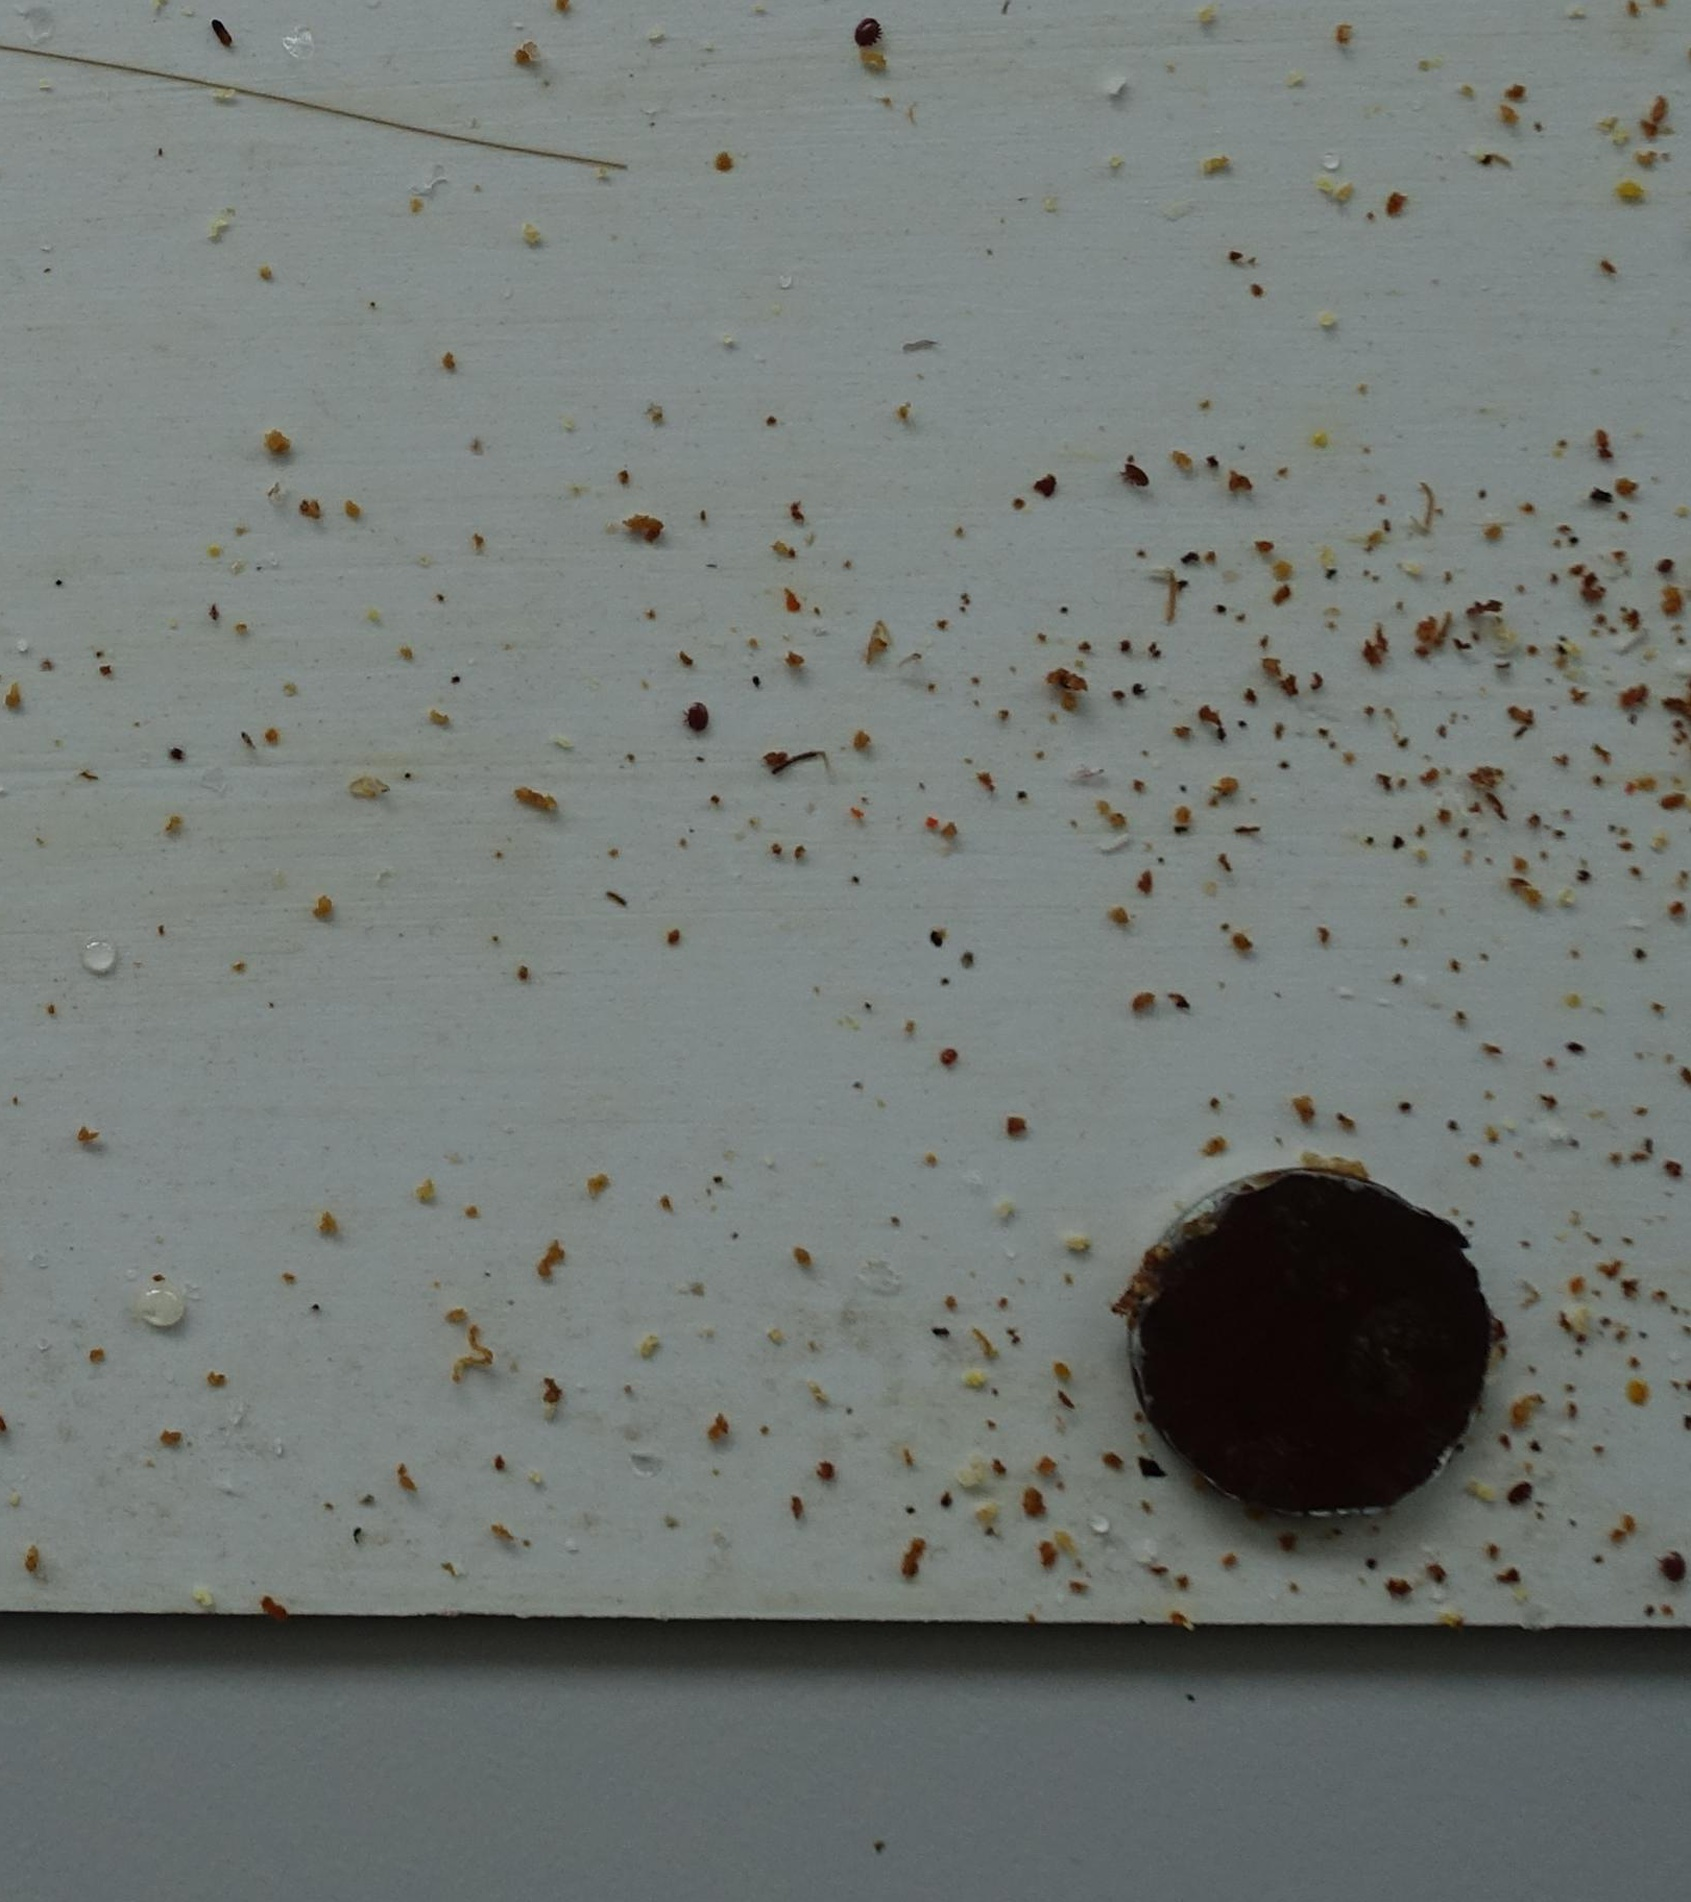Varroa: (1507, 1478, 1534, 1509), (1658, 1553, 1684, 1577), (854, 16, 880, 41), (686, 705, 710, 728)
